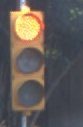Red: (6, 7, 47, 113)
